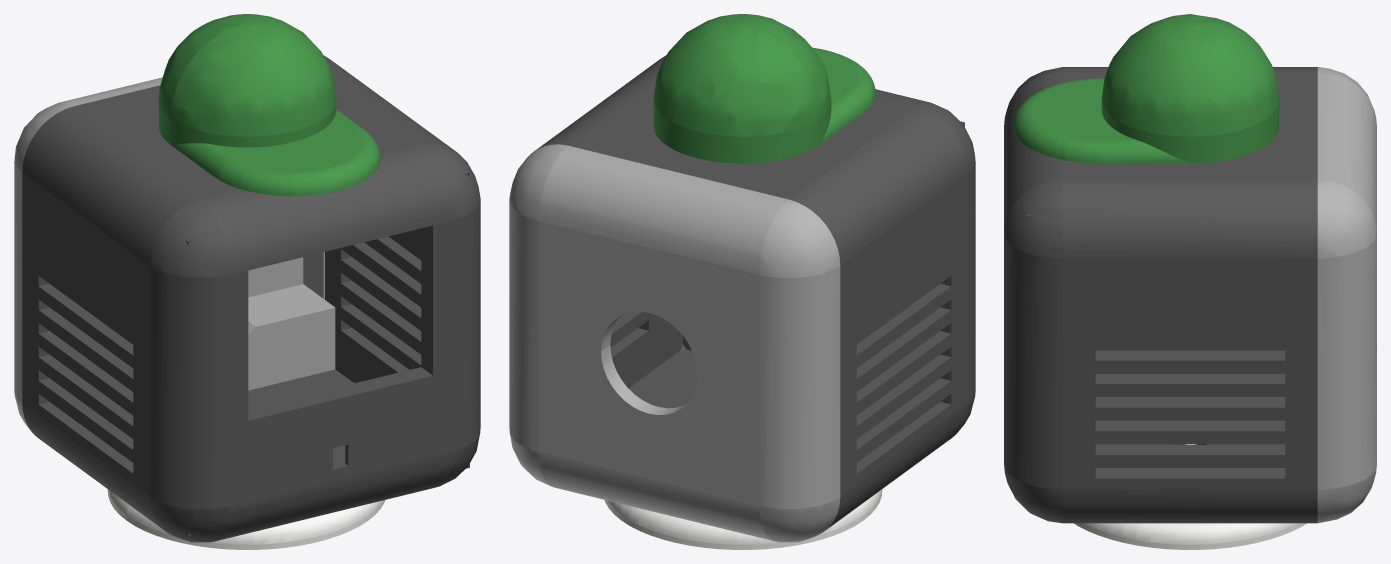
Rendered from qube.gltf.
The picture shows the model from 3 angles, left to right: view 1: azimuth 30°, elevation 25°; view 2: azimuth 150°, elevation 25°; view 3: azimuth 270°, elevation 25°; orthographic projection.
Visible parts, largest first — view 1: Cube v13_node, Cap v10_node, Back Plate v12_node, New Base v1_node; view 2: Back Plate v12_node, Cube v13_node, Cap v10_node, New Base v1_node; view 3: Cube v13_node, Cap v10_node, Back Plate v12_node, New Base v1_node.
Boxes of the visible parts, left/top/right/bottom form: Cube v13_node: left=22, top=55, right=480, bottom=542; Cap v10_node: left=158, top=14, right=380, bottom=195; Back Plate v12_node: left=14, top=77, right=335, bottom=435; New Base v1_node: left=107, top=489, right=385, bottom=549; Back Plate v12_node: left=509, top=144, right=840, bottom=542; Cube v13_node: left=535, top=55, right=975, bottom=529; Cap v10_node: left=653, top=14, right=875, bottom=163; New Base v1_node: left=604, top=489, right=882, bottom=549; Cube v13_node: left=1004, top=67, right=1317, bottom=523; Cap v10_node: left=1013, top=14, right=1279, bottom=163; Back Plate v12_node: left=1317, top=67, right=1376, bottom=523; New Base v1_node: left=1074, top=444, right=1306, bottom=549.
Bounding box in the file's own units: 0.08 × 0.1105 × 0.08.
